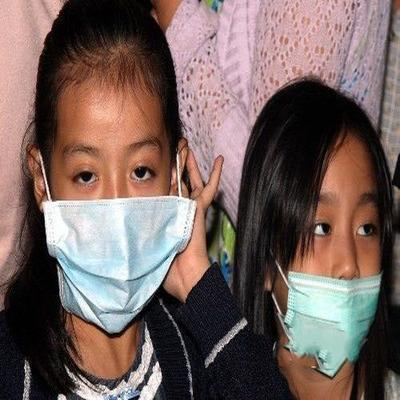Face_Mask_Found: (28, 153, 192, 343), (263, 214, 386, 382)
